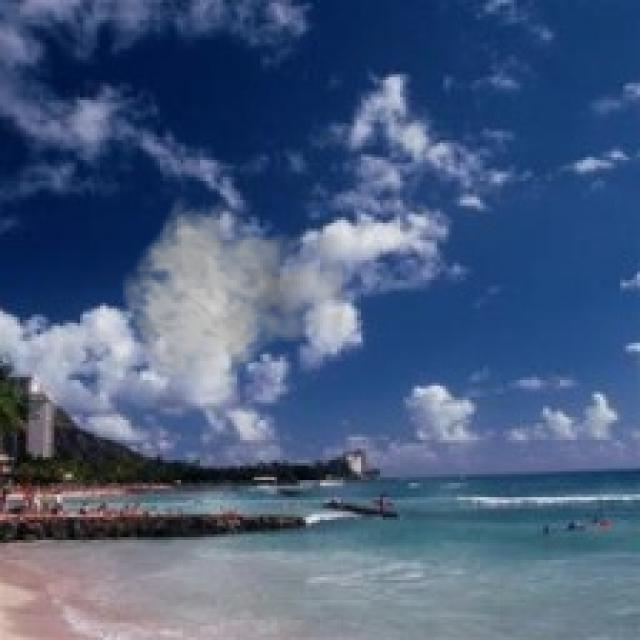Smoke: (120, 192, 366, 392)
